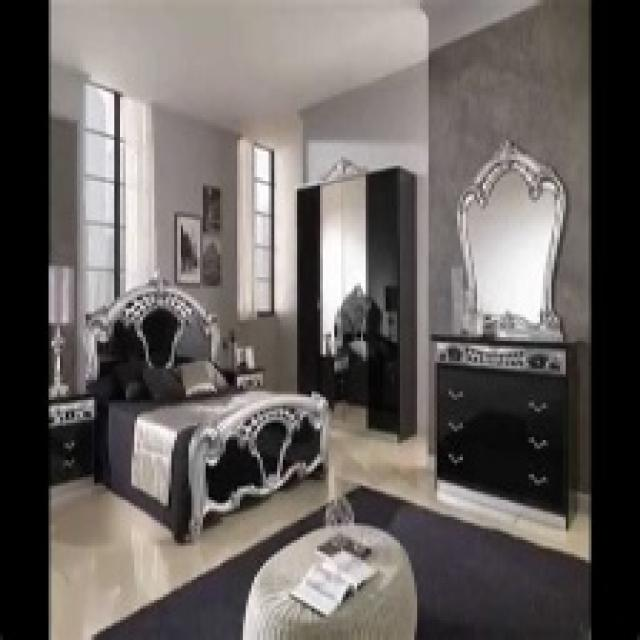Bed: (80, 271, 331, 543)
